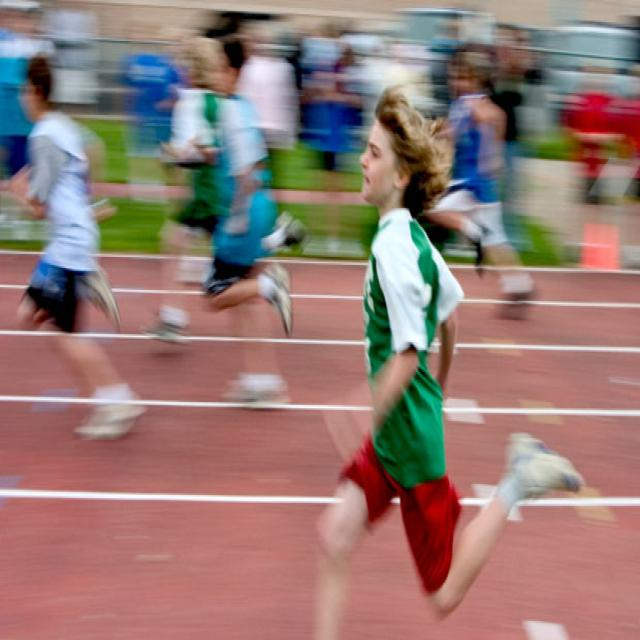Person: (318, 86, 586, 640), (0, 52, 146, 439)
